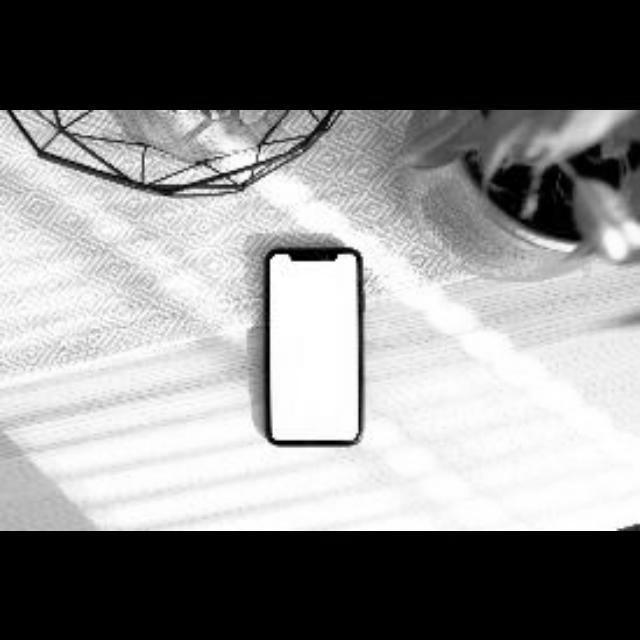fake: (260, 247, 361, 447)
